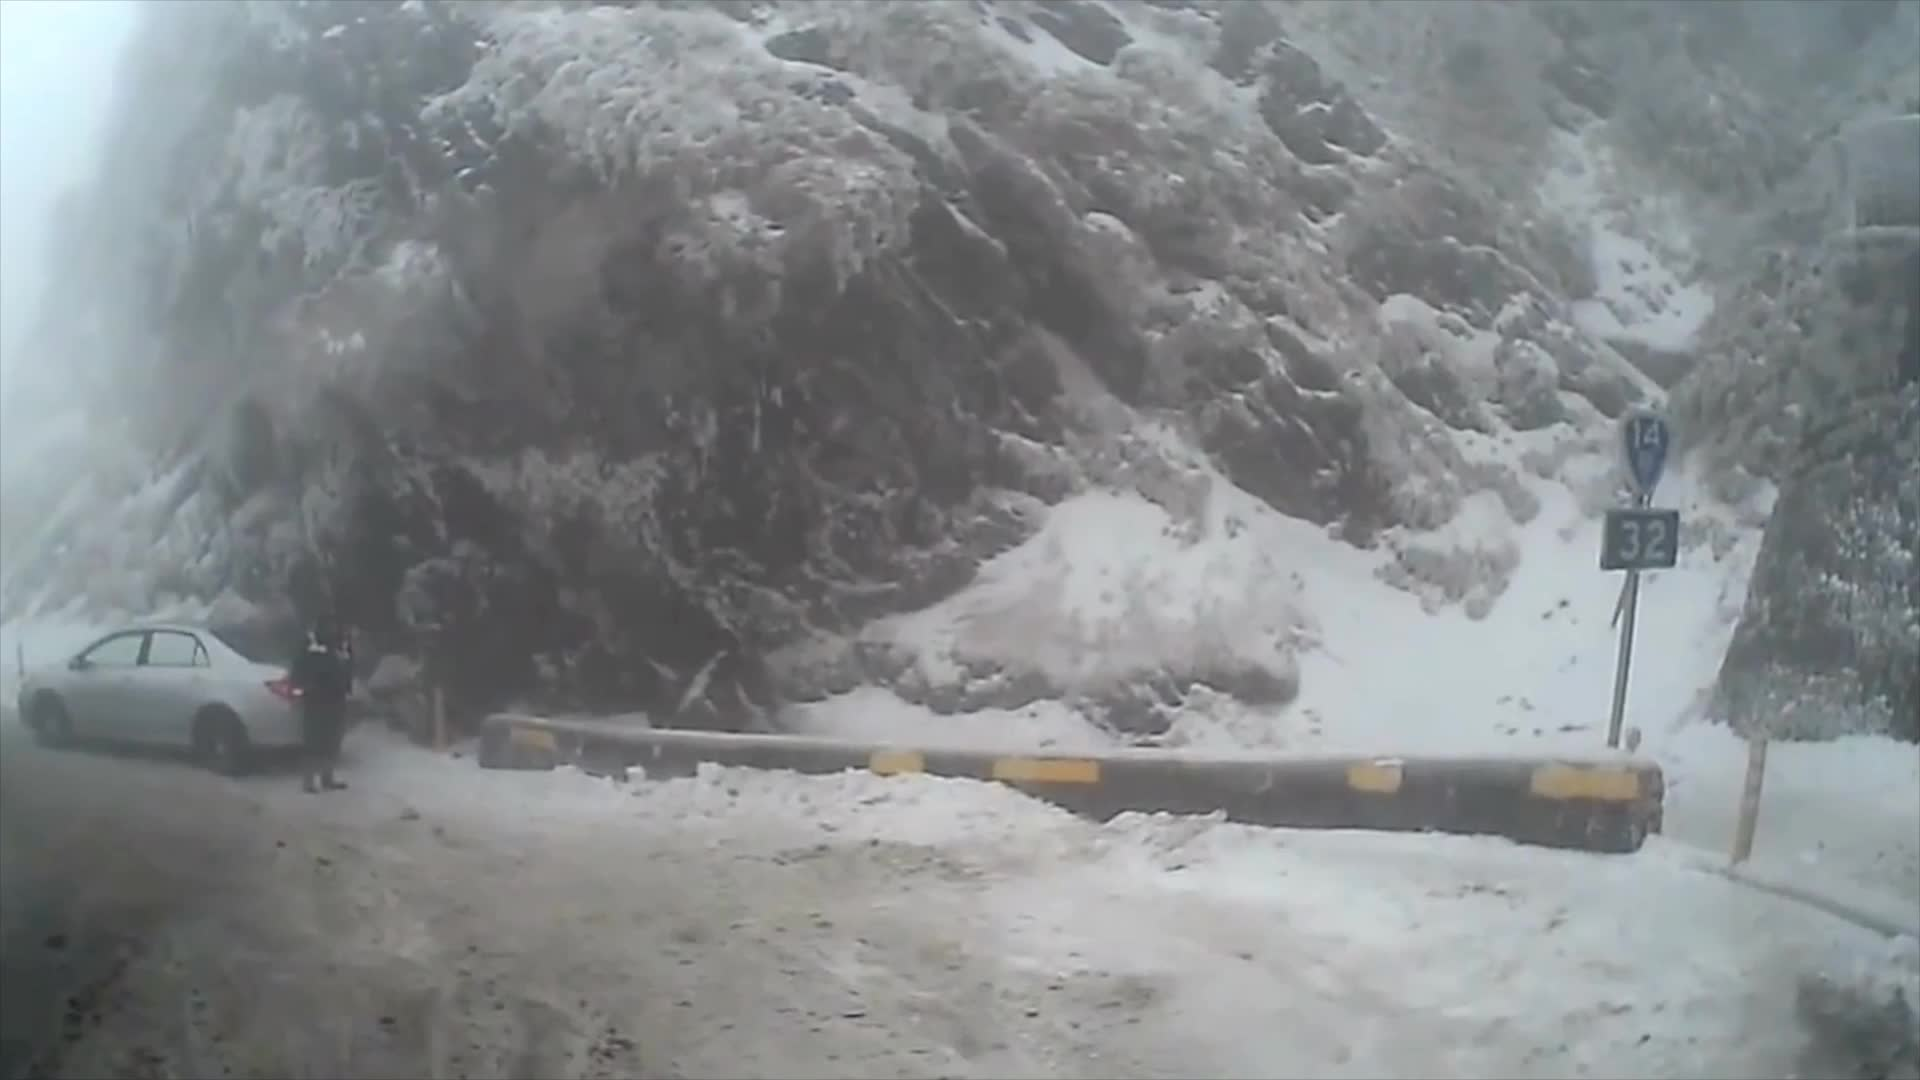pedestrian: (288, 597, 359, 787)
vehicle: (14, 615, 343, 774)
